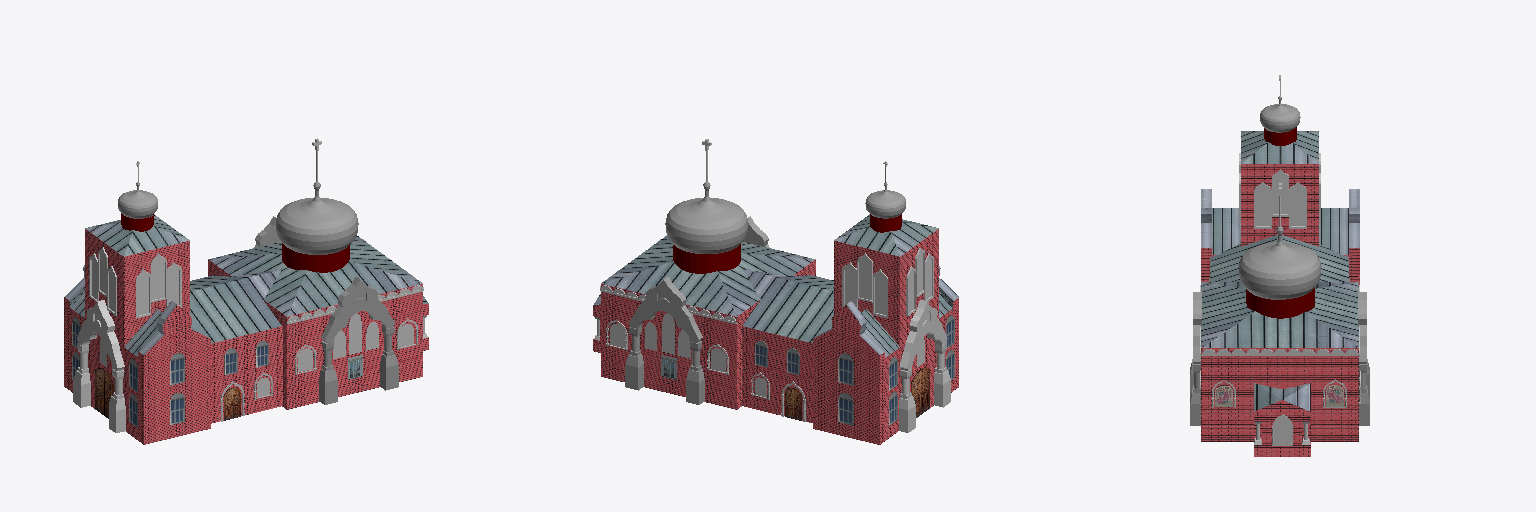
3 views of the same model, side by side, from view 1: azimuth 30°, elevation 25°; view 2: azimuth 150°, elevation 25°; view 3: azimuth 270°, elevation 25° (orthographic).
Parts seen in each view (by area): view 1: Cube, Circle_Circle.001, Plane.001, Plane.002, Circle.039, Circle.036_Circle.022, Cylinder, Circle.035_Circle.037, Circle.069_Circle.072; view 2: Cube, Circle_Circle.001, Plane.000, Plane.002, Circle.038, Cylinder, Circle.036_Circle.022, Circle.035_Circle.037, Circle.069_Circle.072; view 3: Cube, Circle_Circle.001, Circle.037_Circle.023, Plane.001, Cylinder, Plane.000, Circle.035_Circle.037.
Boxes of the visible parts, x1=… form: Cube: x1=64, y1=214, x2=428, y2=444; Circle_Circle.001: x1=276, y1=182, x2=358, y2=254; Plane.001: x1=319, y1=277, x2=398, y2=404; Plane.002: x1=73, y1=300, x2=125, y2=432; Circle.039: x1=136, y1=253, x2=181, y2=318; Circle.036_Circle.022: x1=89, y1=247, x2=116, y2=315; Cylinder: x1=282, y1=243, x2=349, y2=272; Circle.035_Circle.037: x1=118, y1=182, x2=157, y2=218; Circle.069_Circle.072: x1=95, y1=368, x2=113, y2=418; Cube: x1=593, y1=214, x2=958, y2=444; Circle_Circle.001: x1=665, y1=182, x2=747, y2=253; Plane.000: x1=625, y1=277, x2=704, y2=404; Plane.002: x1=899, y1=300, x2=950, y2=432; Circle.038: x1=842, y1=253, x2=887, y2=318; Cylinder: x1=673, y1=244, x2=740, y2=273; Circle.036_Circle.022: x1=906, y1=248, x2=933, y2=316; Circle.035_Circle.037: x1=865, y1=182, x2=905, y2=218; Circle.069_Circle.072: x1=911, y1=367, x2=929, y2=417; Cube: x1=1201, y1=131, x2=1359, y2=456; Circle_Circle.001: x1=1239, y1=226, x2=1320, y2=299; Circle.037_Circle.023: x1=1254, y1=169, x2=1306, y2=228; Plane.001: x1=1190, y1=292, x2=1201, y2=425; Cylinder: x1=1246, y1=288, x2=1314, y2=318; Plane.000: x1=1358, y1=292, x2=1369, y2=425; Circle.035_Circle.037: x1=1260, y1=96, x2=1300, y2=132.
Bounding box in the file's own units: 11.76 × 8.57 × 5.65.
Materials: 43 (7 with a texture image).